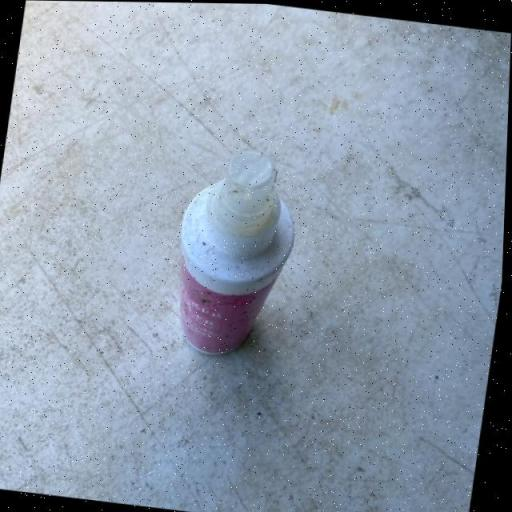plastic: (164, 140, 308, 362)
